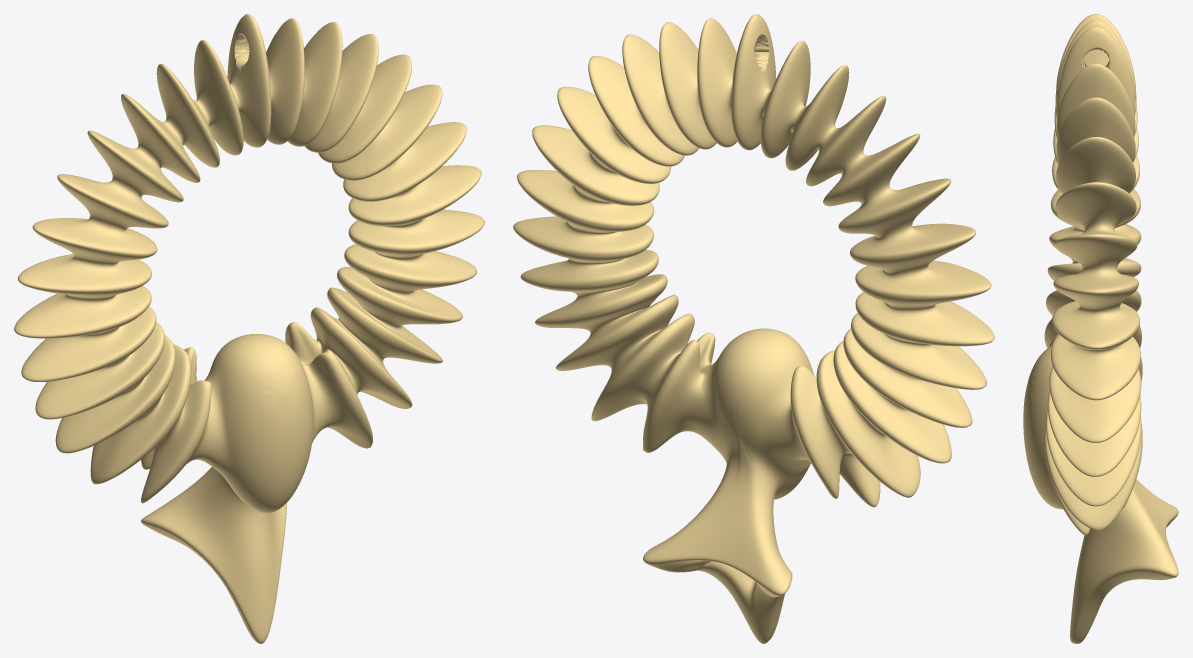
The model's file is satori-4.glb.
3 views of the same model, side by side, from view 1: azimuth 30°, elevation 25°; view 2: azimuth 150°, elevation 25°; view 3: azimuth 270°, elevation 25° (orthographic). The views are drawn at different scales.
Visible parts, largest first — view 1: Box3073; view 2: Box3073; view 3: Box3073.
Part boxes in pixels (<box>): Box3073: <box>14,14,484,643</box>; Box3073: <box>513,14,994,643</box>; Box3073: <box>1023,14,1178,643</box>.
Size of the model in its own units: 0.0375 by 0.0476 by 0.0109.
